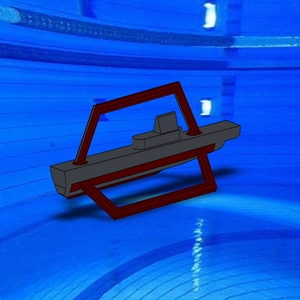submarine: (43, 77, 255, 223)
